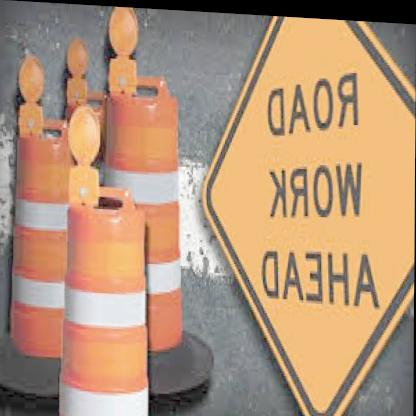obstacle: (57, 181, 154, 416)
